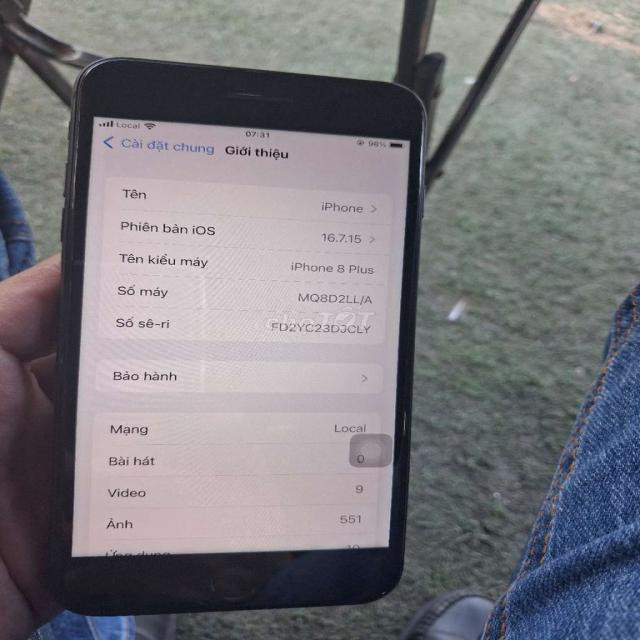gen_7_8: (43, 48, 431, 626)
scratch: (387, 74, 427, 190), (52, 107, 86, 212), (361, 570, 392, 599)
